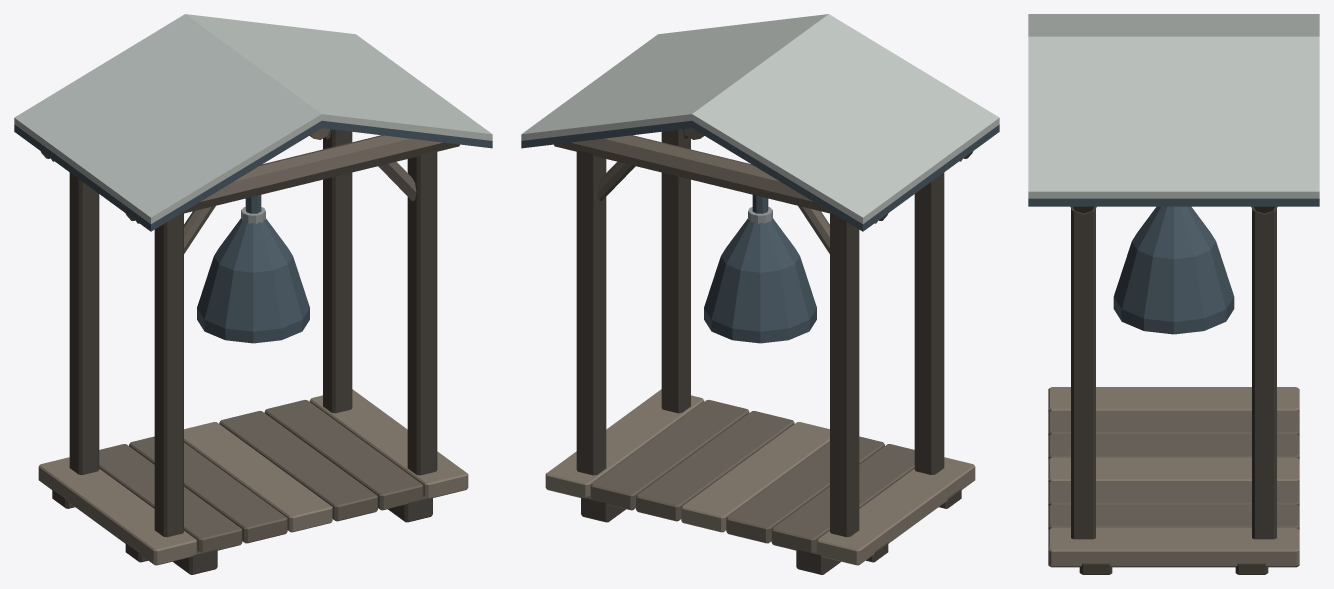
File: bell-tower.glb
3 renders of one model, left to right at view 1: azimuth 30°, elevation 25°; view 2: azimuth 150°, elevation 25°; view 3: azimuth 270°, elevation 25°, orthographic. The views are drawn at different scales.
Visible parts, largest first — view 1: bell-tower__body; view 2: bell-tower__body; view 3: bell-tower__body.
Part boxes in pixels (bbox=[...]): bell-tower__body: bbox=[14, 14, 492, 574]; bell-tower__body: bbox=[521, 14, 999, 574]; bell-tower__body: bbox=[1028, 14, 1319, 574].
Size of the model in its own units: 1.67 by 2.06 by 1.16.
